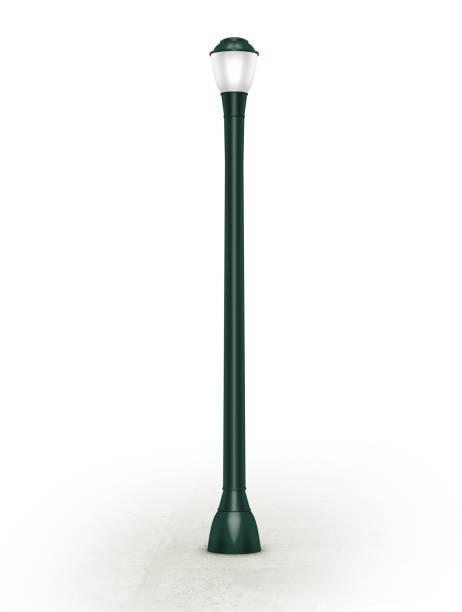light_pole: (212, 98, 260, 555)
